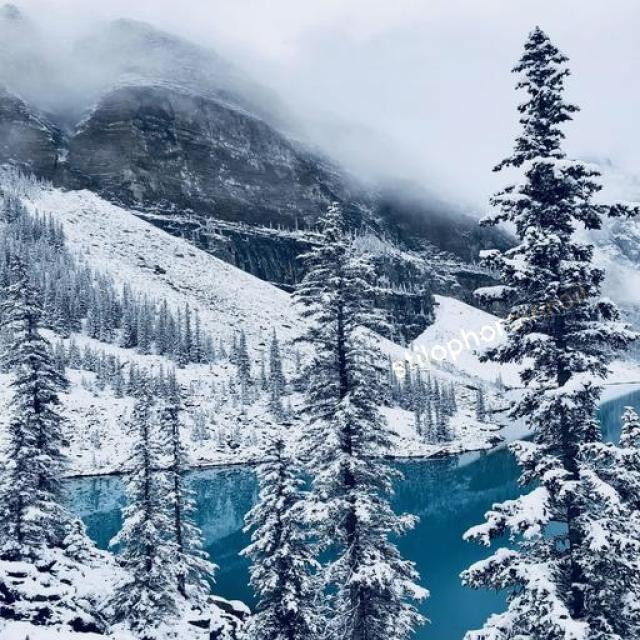watermark: (386, 276, 590, 382)
